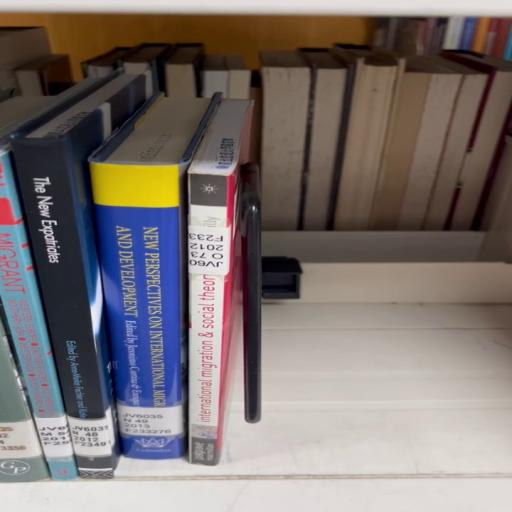reverse: (189, 100, 253, 466)
